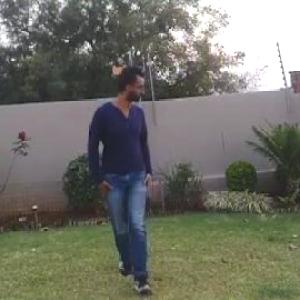follow: (86, 59, 158, 295)
